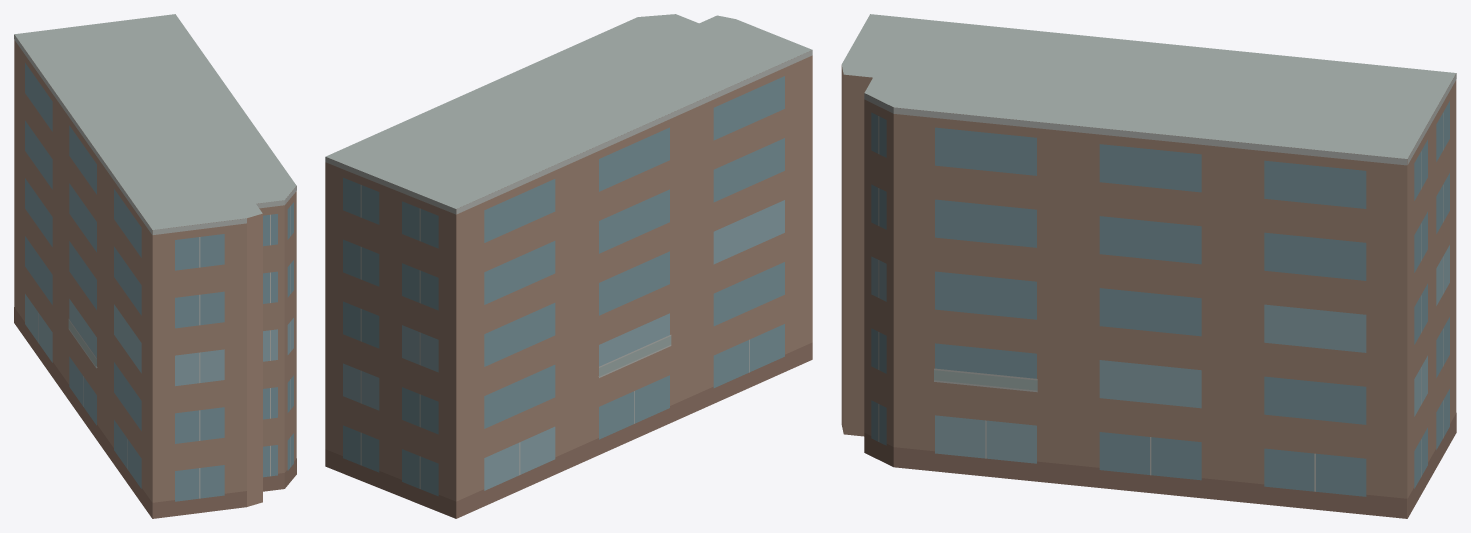
File: survey-upis-32927970.glb
3 views of the same model, side by side, from view 1: azimuth 30°, elevation 25°; view 2: azimuth 150°, elevation 25°; view 3: azimuth 270°, elevation 25° (orthographic). The views are drawn at different scales.
Parts seen in each view (by area): view 1: survey-upis-32927970.tmp; view 2: survey-upis-32927970.tmp; view 3: survey-upis-32927970.tmp.
Boxes of the visible parts, bbox=[...] form: survey-upis-32927970.tmp: bbox=[14, 14, 296, 518]; survey-upis-32927970.tmp: bbox=[325, 14, 812, 518]; survey-upis-32927970.tmp: bbox=[841, 14, 1456, 518].
Bounding box in the file's own units: 11.81 × 13.65 × 21.15.
